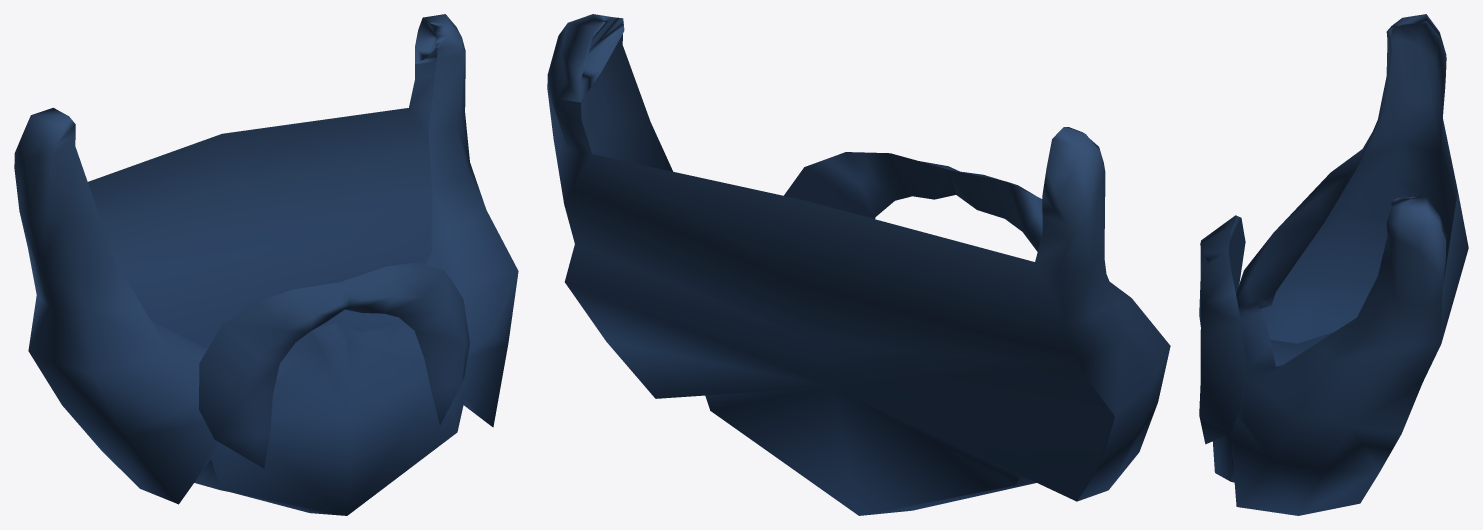
File: Beard_Blue_13.fbx
3 views of the same model, side by side, from view 1: azimuth 30°, elevation 25°; view 2: azimuth 150°, elevation 25°; view 3: azimuth 270°, elevation 25° (orthographic). The views are drawn at different scales.
Visible parts, largest first — view 1: Beard_Blue_13; view 2: Beard_Blue_13; view 3: Beard_Blue_13.
Part boxes in pixels (x1=…): Beard_Blue_13: x1=14, y1=14, x2=518, y2=515; Beard_Blue_13: x1=547, y1=14, x2=1170, y2=515; Beard_Blue_13: x1=1199, y1=14, x2=1468, y2=515.
Size of the model in its own units: 54.32 by 45.47 by 28.75.
